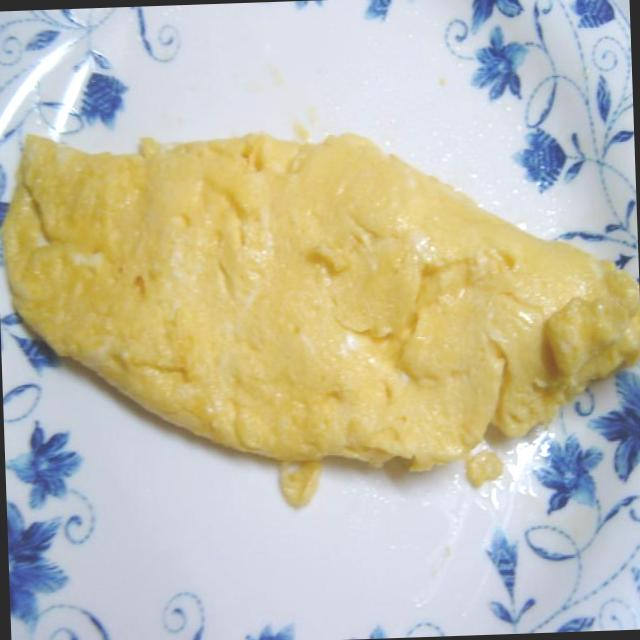Omelet: (0, 87, 640, 503)
